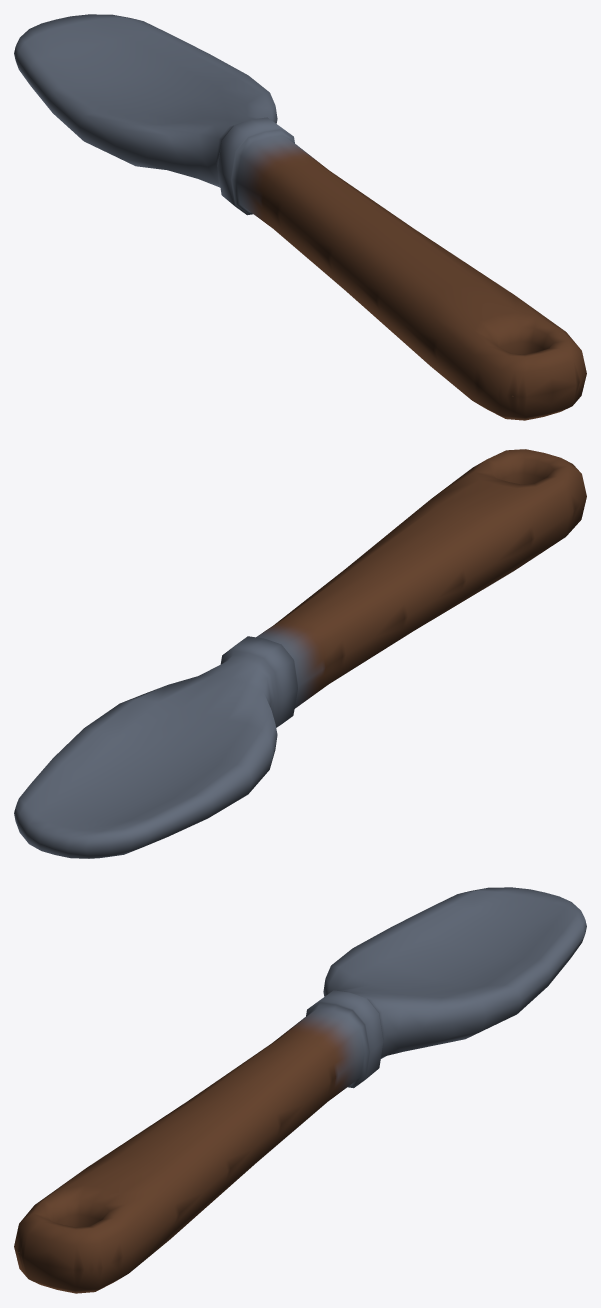
The model's file is SmallSpoon.fbx.
3 views of the same model, one above another, from view 1: azimuth 30°, elevation 25°; view 2: azimuth 150°, elevation 25°; view 3: azimuth 330°, elevation 25° (orthographic).
Visible parts, largest first — view 1: SmallSpoon; view 2: SmallSpoon; view 3: SmallSpoon.
Boxes of the visible parts, x1,y1,x2,y2 form: SmallSpoon: (14, 14, 586, 420); SmallSpoon: (14, 449, 586, 858); SmallSpoon: (14, 887, 586, 1293).
Size of the model in its own units: 4.08 by 1.89 by 20.51.
